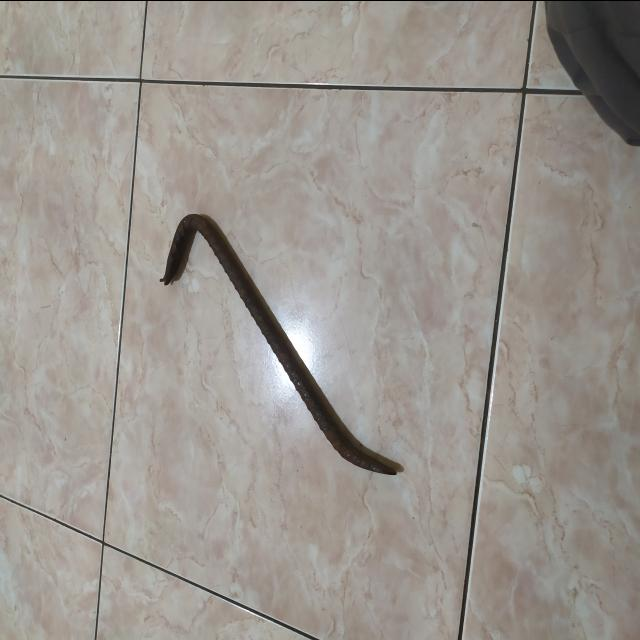Linggis: (159, 217, 401, 477)
